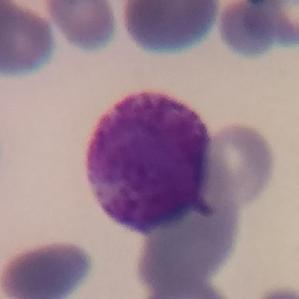Basophil: (80, 80, 215, 232)
RBC: (138, 173, 241, 288), (202, 119, 278, 206), (116, 0, 224, 59), (0, 237, 98, 299), (213, 0, 291, 61), (0, 0, 59, 80), (42, 0, 120, 52), (244, 0, 298, 50), (138, 274, 236, 299), (249, 283, 299, 299)
